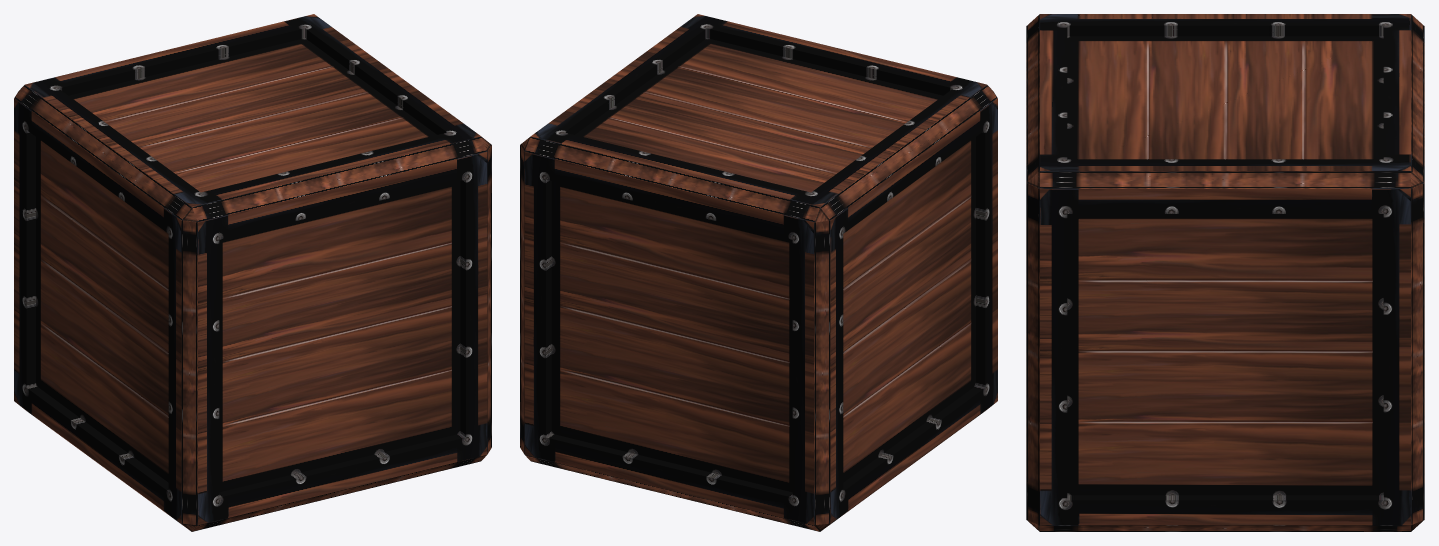
3 renders of one model, left to right at view 1: azimuth 30°, elevation 25°; view 2: azimuth 150°, elevation 25°; view 3: azimuth 270°, elevation 25°, orthographic. The views are drawn at different scales.
Visible parts, largest first — view 1: Cube; view 2: Cube; view 3: Cube.
Part boxes in pixels (x1,y1,x2,y2): Cube: [14, 14, 491, 531]; Cube: [520, 14, 997, 531]; Cube: [1026, 14, 1424, 531].
Bounding box in the file's own units: 200 × 200 × 200.
Materials: 1 (1 with a texture image).
